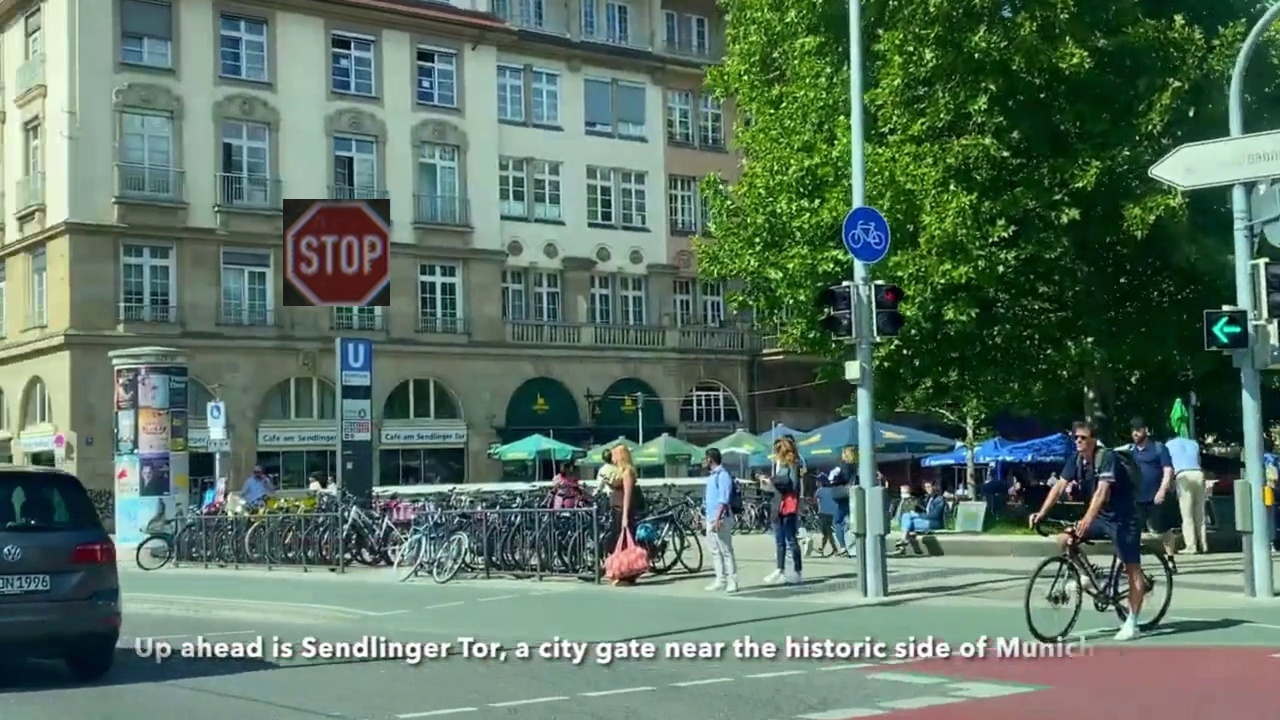Stop: (283, 199, 390, 306)
